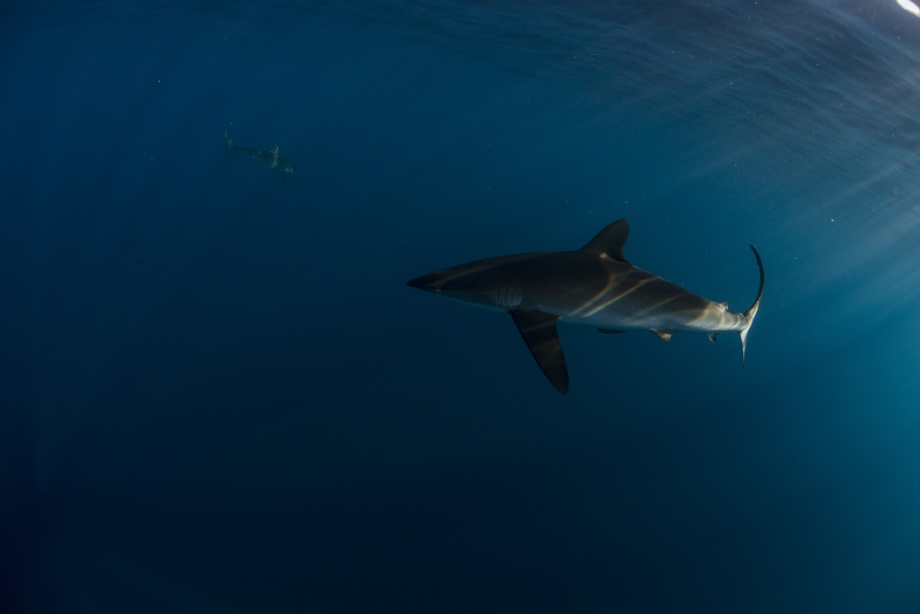Sedoso: (398, 208, 774, 401)
